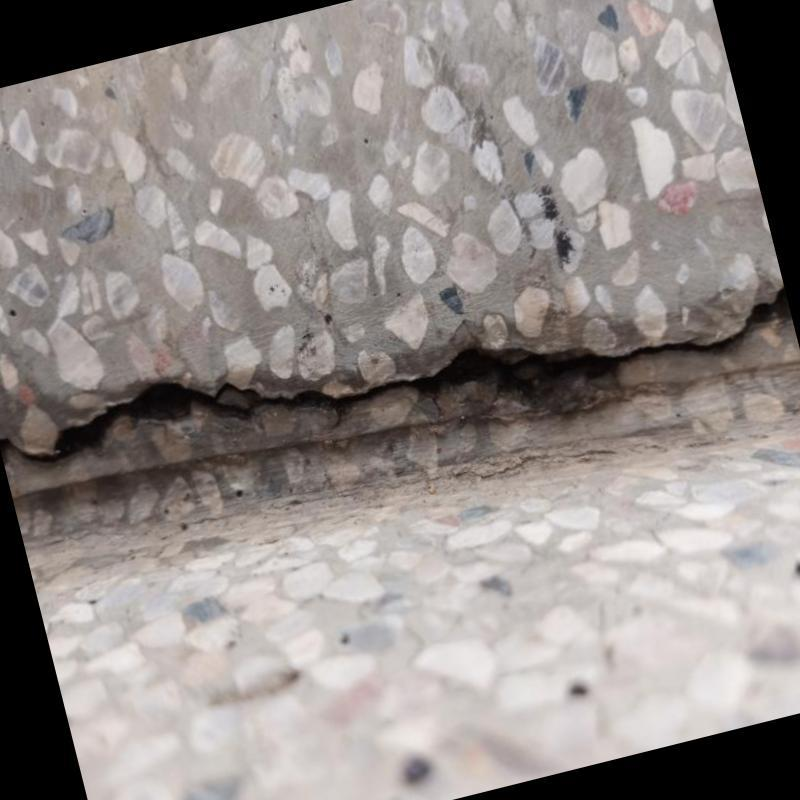pothole: (0, 289, 791, 463)
